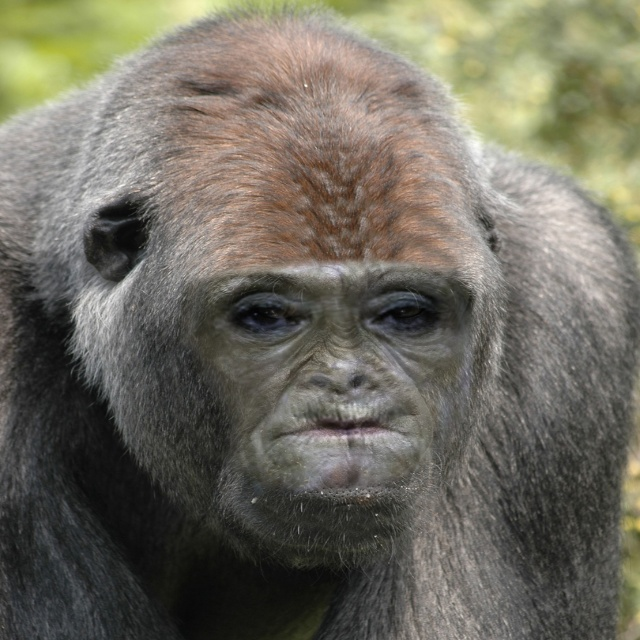Monkey: (0, 3, 639, 640)
